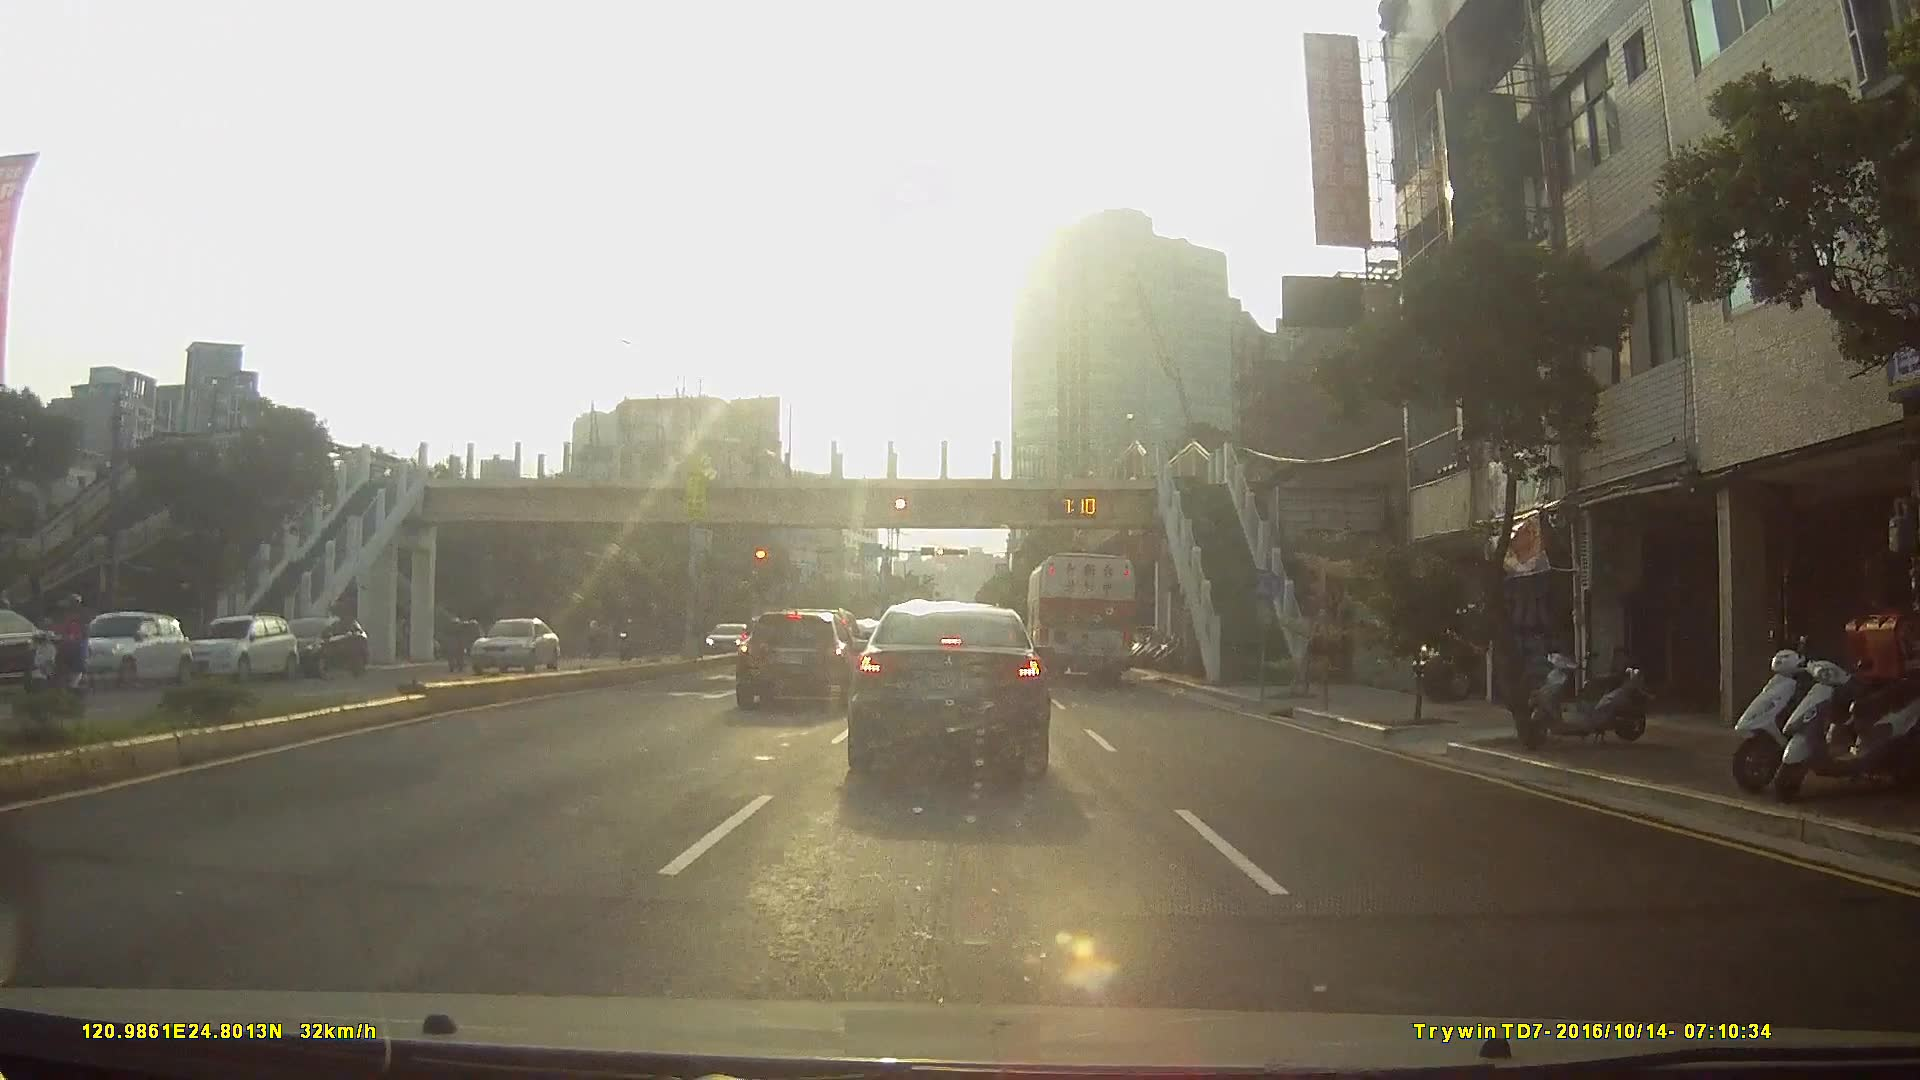rider: (29, 591, 100, 710)
vehicle: (844, 597, 1054, 778), (1025, 547, 1138, 683), (730, 602, 862, 706), (48, 608, 186, 687), (176, 610, 296, 679), (274, 613, 367, 675), (458, 613, 554, 672), (701, 621, 746, 656)
